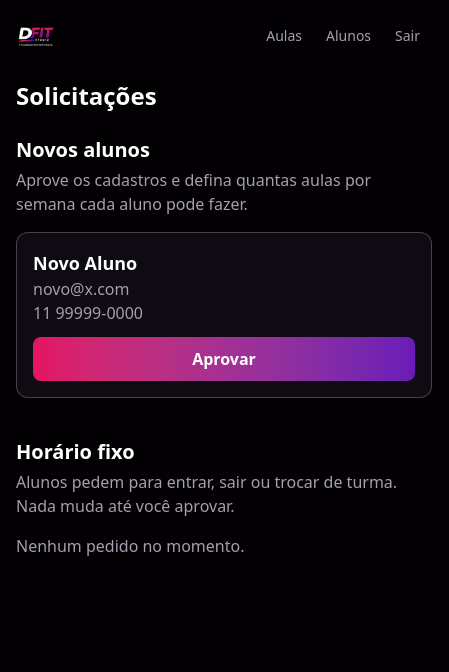
Test: staff approvals › approves a student with a weekly limit
Expected: the text "Novo Aluno" is shown, [33,251,137,275]
Click the button "Aprovar" at (224, 359), box [33,337,415,381]
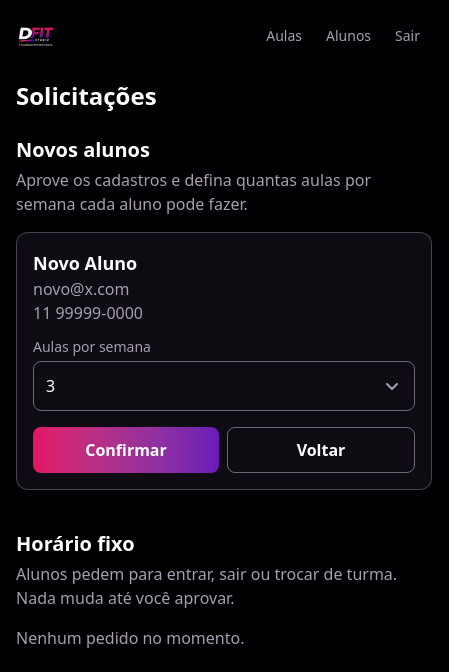
Click the dropdown named "Aulas por semana" at (51, 386), box [33,361,415,411]
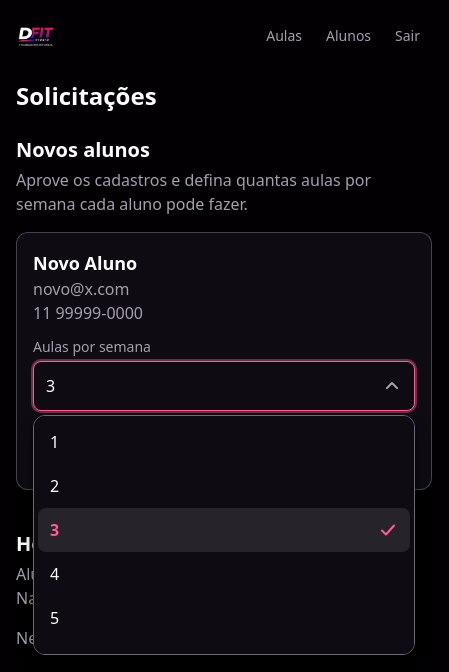
Click the option "4" at (55, 574), box [50,563,59,585]
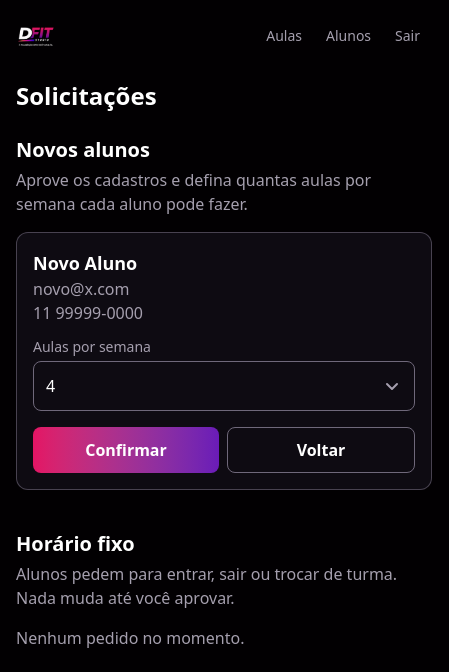
Click the button "Confirmar" at (126, 450), box [33,427,219,473]
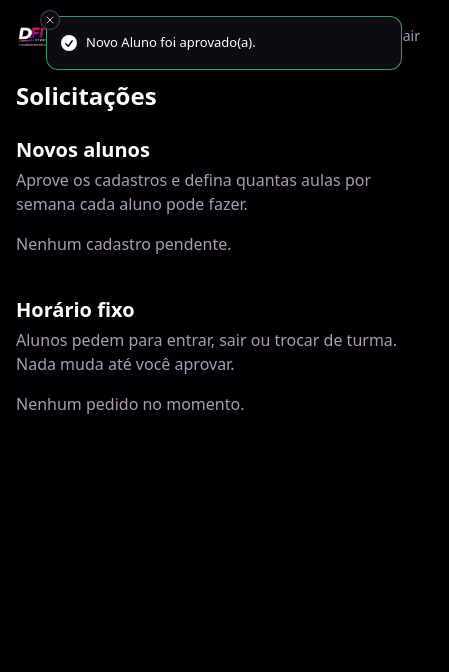
Now the text "Novo Aluno foi aprovado(a)." is shown, box [86,33,256,52]
Now the text "Nenhum cadastro pendente." is shown, box [16,233,232,255]
